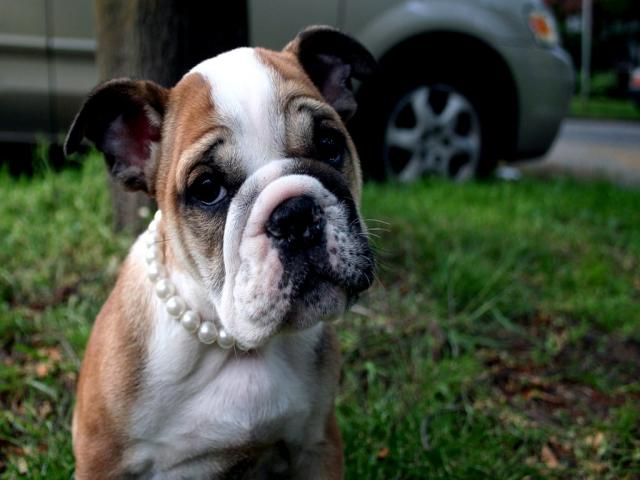Dog: (61, 27, 392, 479)
